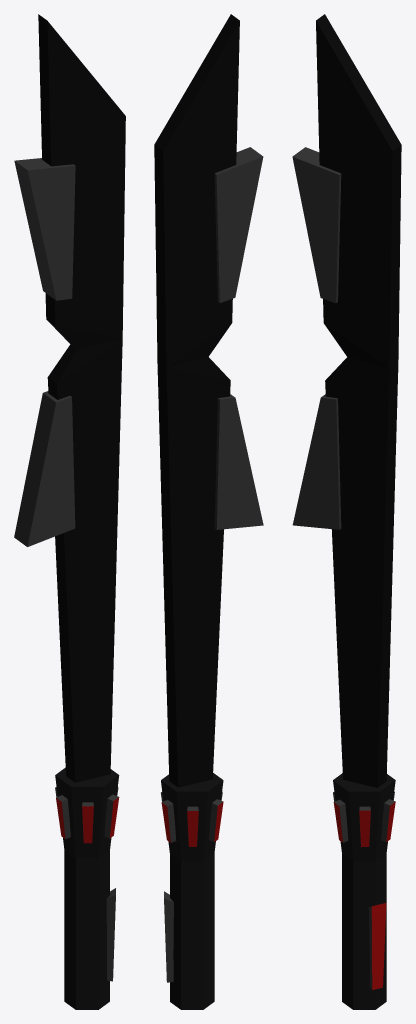
The model's file is Dark_Lase_Moff.fbx.
3 views of the same model, side by side, from view 1: azimuth 30°, elevation 25°; view 2: azimuth 210°, elevation 25°; view 3: azimuth 330°, elevation 25° (orthographic). The views are drawn at different scales.
Visible parts, largest first — view 1: Dark_Laser; view 2: Dark_Laser; view 3: Dark_Laser.
Boxes of the visible parts, x1=… form: Dark_Laser: x1=14, y1=14, x2=125, y2=1009; Dark_Laser: x1=154, y1=14, x2=263, y2=1009; Dark_Laser: x1=292, y1=14, x2=401, y2=1009.
Bounding box in the file's own units: 0.1223 × 1.16 × 0.0679.
